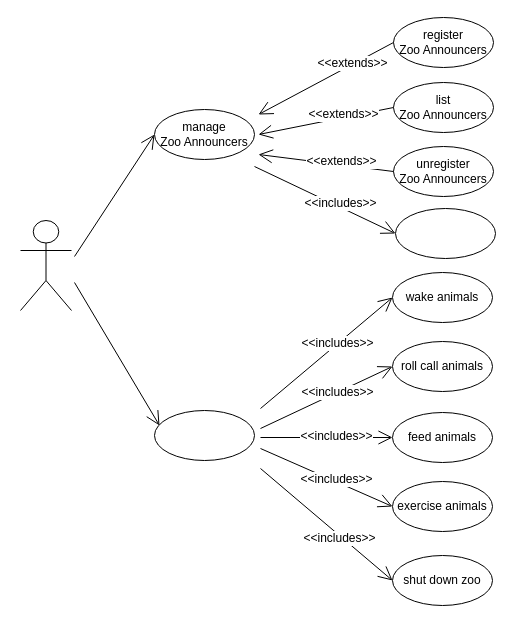
Some shapes in this 513 by 623 pixel diagram are drawn without their labels. The shapes that lost their labels are listed below. From the top down, each one's centre as x and y in pixels, then its label:
the point at 445,233: notify Zoo Announcers
the point at 46,265: Zookeeper
the point at 204,435: take care of animals
